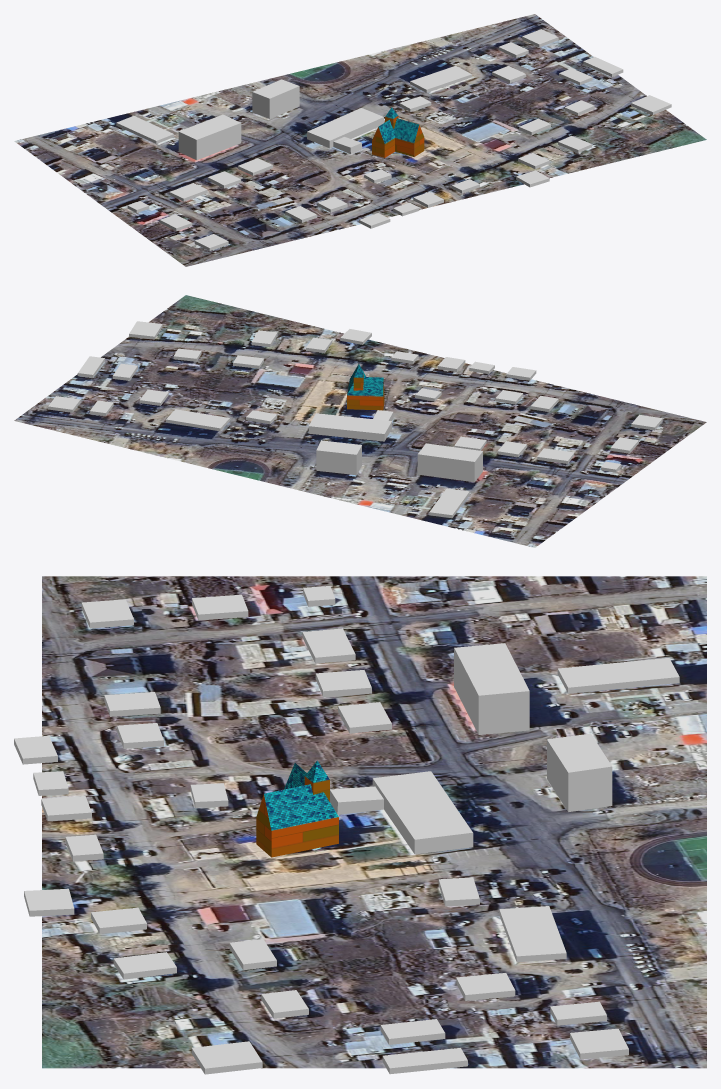
Rendered from kunanbaykaji.glb.
3 renders of one model, top to bottom at view 1: azimuth 30°, elevation 25°; view 2: azimuth 150°, elevation 25°; view 3: azimuth 270°, elevation 25°, orthographic. The views are drawn at different scales.
Parts seen in each view (by area): view 1: EXPORT_GOOGLE_SAT_WM, Areas:building, Cube.001, Areas:building.001; view 2: EXPORT_GOOGLE_SAT_WM, Areas:building, Areas:building.001, Cube.001; view 3: EXPORT_GOOGLE_SAT_WM, Areas:building, Cube.001, Areas:building.001, Cube.002.
Part boxes in pixels (x1,y1,x2,y2): EXPORT_GOOGLE_SAT_WM: [14, 14, 706, 266]; Areas:building: [116, 29, 671, 250]; Cube.001: [372, 107, 424, 157]; Areas:building.001: [307, 108, 383, 148]; EXPORT_GOOGLE_SAT_WM: [14, 295, 706, 547]; Areas:building: [48, 321, 662, 518]; Areas:building.001: [308, 413, 391, 441]; Cube.001: [347, 364, 384, 410]; EXPORT_GOOGLE_SAT_WM: [42, 576, 706, 1068]; Areas:building: [14, 586, 679, 1074]; Cube.001: [256, 760, 338, 857]; Areas:building.001: [372, 771, 473, 854]; Cube.002: [330, 786, 383, 814].
Size of the model in its own units: 1.89e+10 by 1.97e+09 by 1.11e+10.
Materials: 4 (3 with a texture image).
